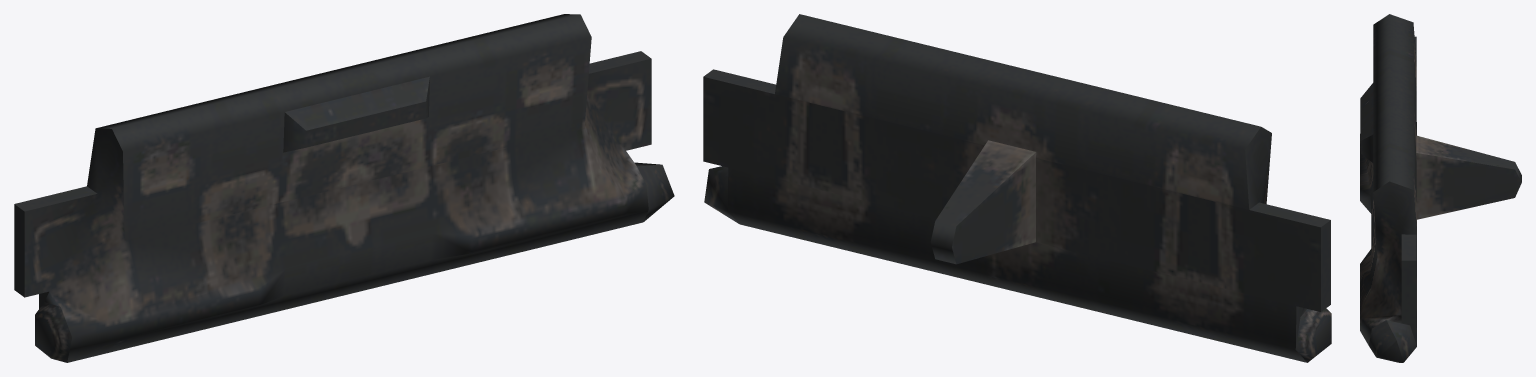
3 views of the same model, side by side, from view 1: azimuth 30°, elevation 25°; view 2: azimuth 150°, elevation 25°; view 3: azimuth 270°, elevation 25° (orthographic). The views are drawn at different scales.
Visible parts, largest first — view 1: set_0_group_0; view 2: set_0_group_0; view 3: set_0_group_0.
Part boxes in pixels (<box>): set_0_group_0: <box>14,14,674,362</box>; set_0_group_0: <box>703,14,1331,362</box>; set_0_group_0: <box>1360,14,1521,362</box>.
Size of the model in its own units: 0.6496 by 0.2168 by 0.1959.
1 material, 1 textured.
